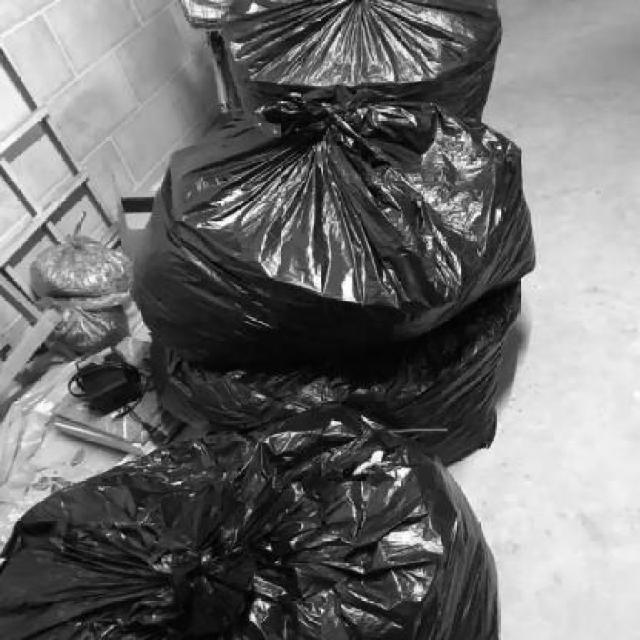Vinyl: (1, 408, 500, 640), (135, 100, 537, 365), (223, 0, 503, 118)
